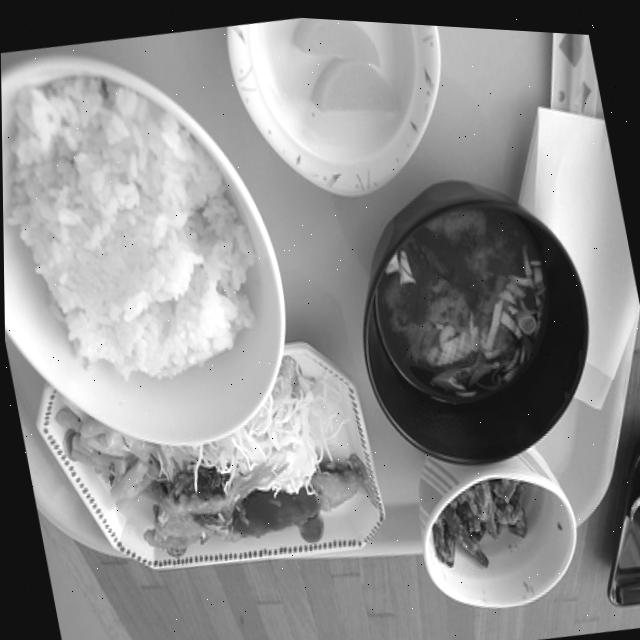米饭主食: (0, 16, 321, 473)
